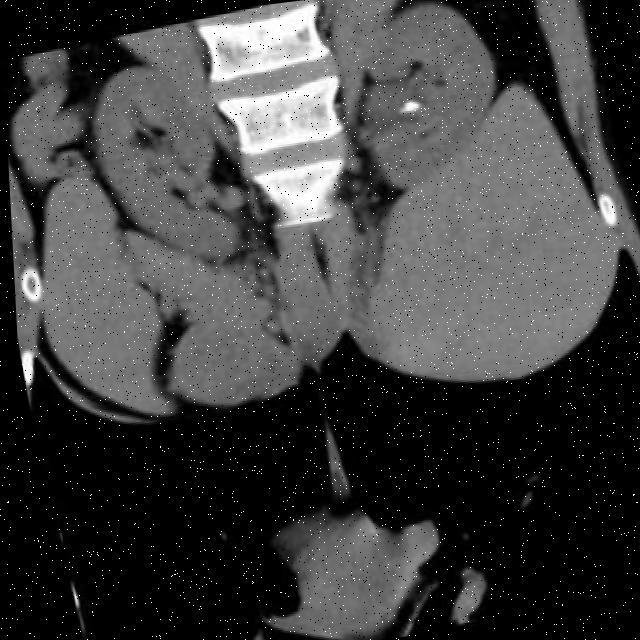Tas_Var: (397, 96, 423, 115)
